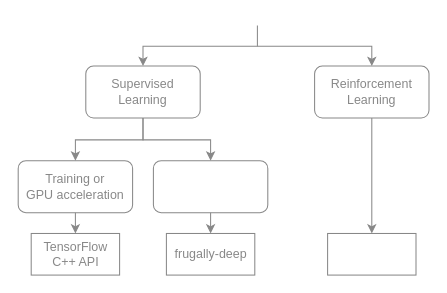
This 447x293 diagram has some shape labels left out. Here are the shapes that lost their labels. From the top down, the centre of each, then its label:
At [210,186]: "Inference only".
At [371,253]: "OpenAI Gym".
